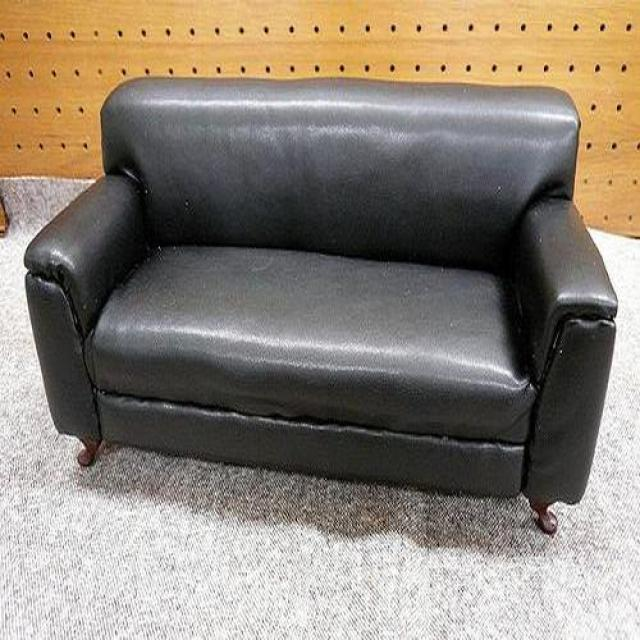sofa: (23, 76, 620, 530)
